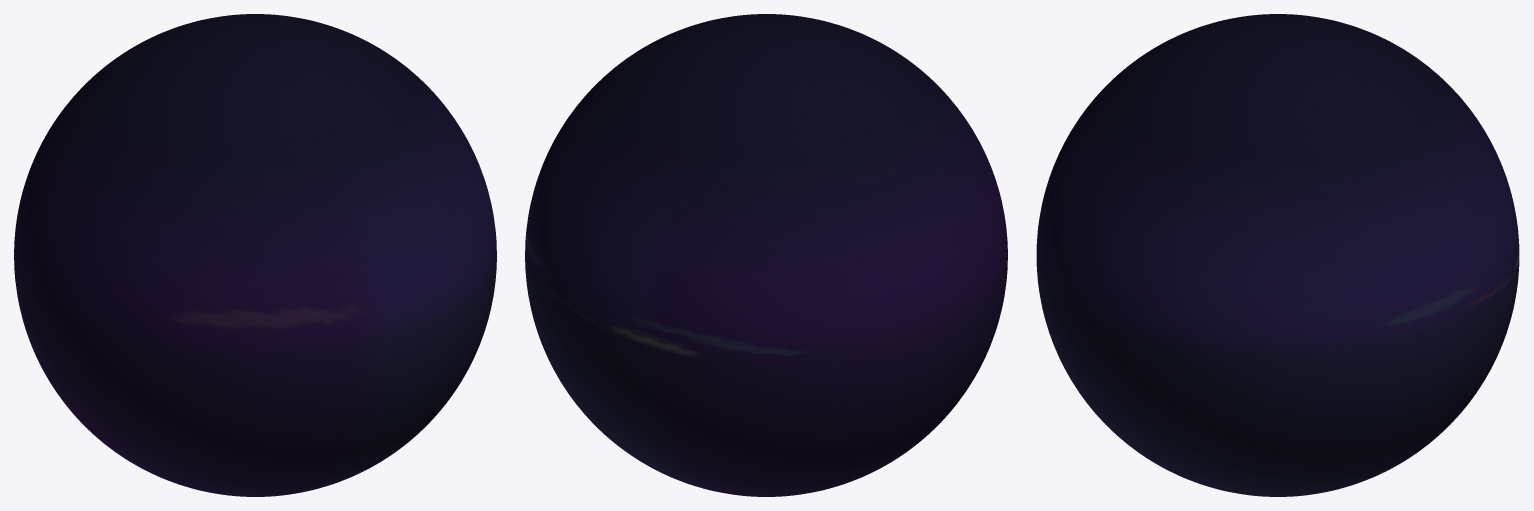
File: DreamWorld.fbx
3 renders of one model, left to right at view 1: azimuth 30°, elevation 25°; view 2: azimuth 150°, elevation 25°; view 3: azimuth 270°, elevation 25°, orthographic.
Parts seen in each view (by area): view 1: DistantSkyMesh; view 2: DistantSkyMesh; view 3: DistantSkyMesh.
Boxes of the visible parts, box(x1,y1,x2,y2) form: DistantSkyMesh: box(14, 14, 496, 496); DistantSkyMesh: box(525, 14, 1007, 496); DistantSkyMesh: box(1036, 14, 1519, 496).
Bounding box in the file's own units: 660 × 660 × 660.
